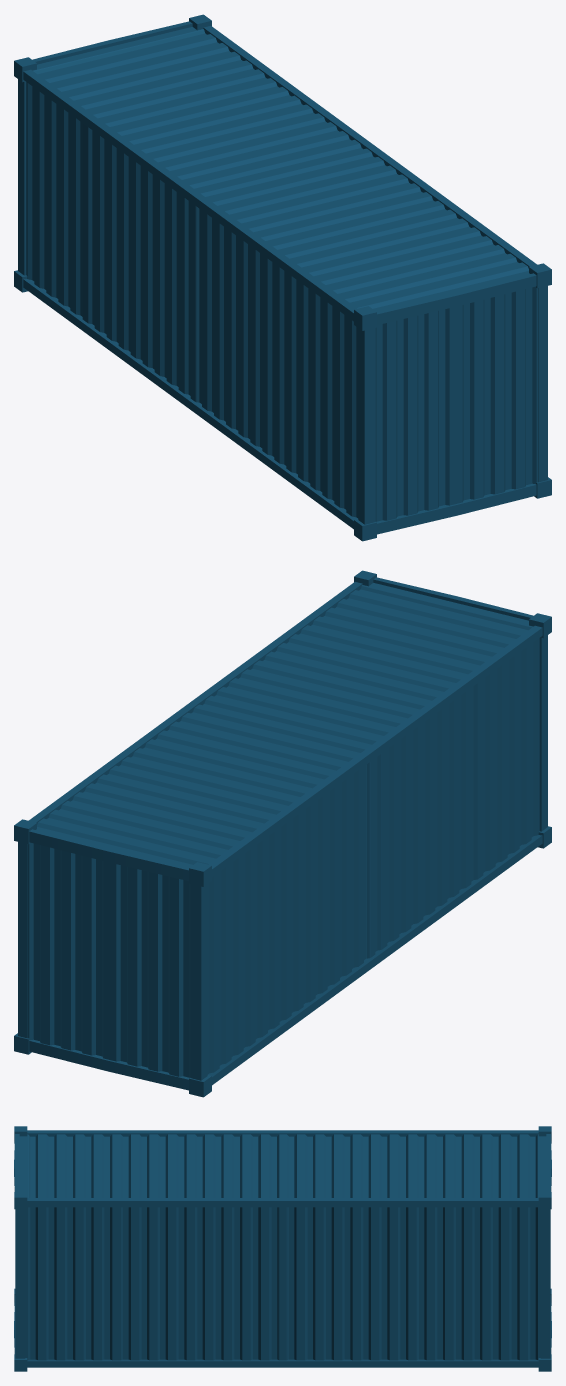
File: cargoBlueLP.glb
The picture shows the model from 3 angles, top to bottom: view 1: azimuth 30°, elevation 25°; view 2: azimuth 150°, elevation 25°; view 3: azimuth 270°, elevation 25°; orthographic projection. The views are drawn at different scales.
Visible parts, largest first — view 1: 030.002; view 2: 030.002; view 3: 030.002.
Part boxes in pixels (bbox=[...]): 030.002: bbox=[14, 14, 551, 541]; 030.002: bbox=[14, 570, 551, 1097]; 030.002: bbox=[14, 1126, 551, 1371].
Bounding box in the file's own units: 2.22 × 2.53 × 7.07.
1 material, 1 textured.
